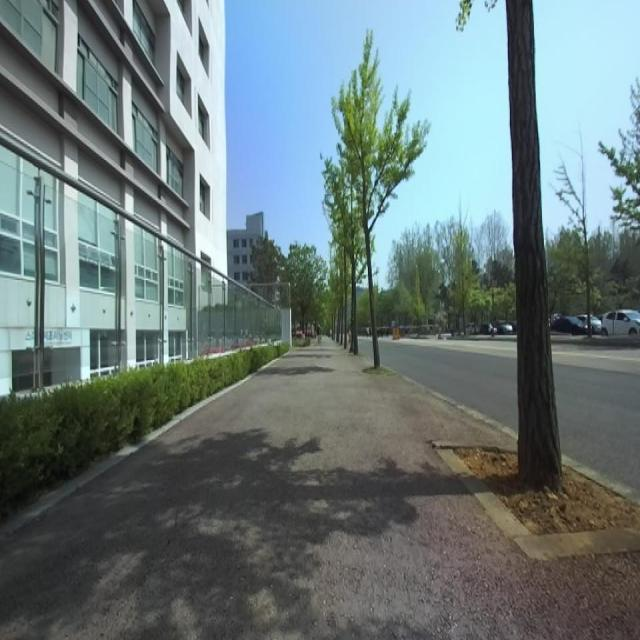sidewalk: (0, 338, 640, 639), (402, 375, 518, 440), (563, 456, 640, 505)
